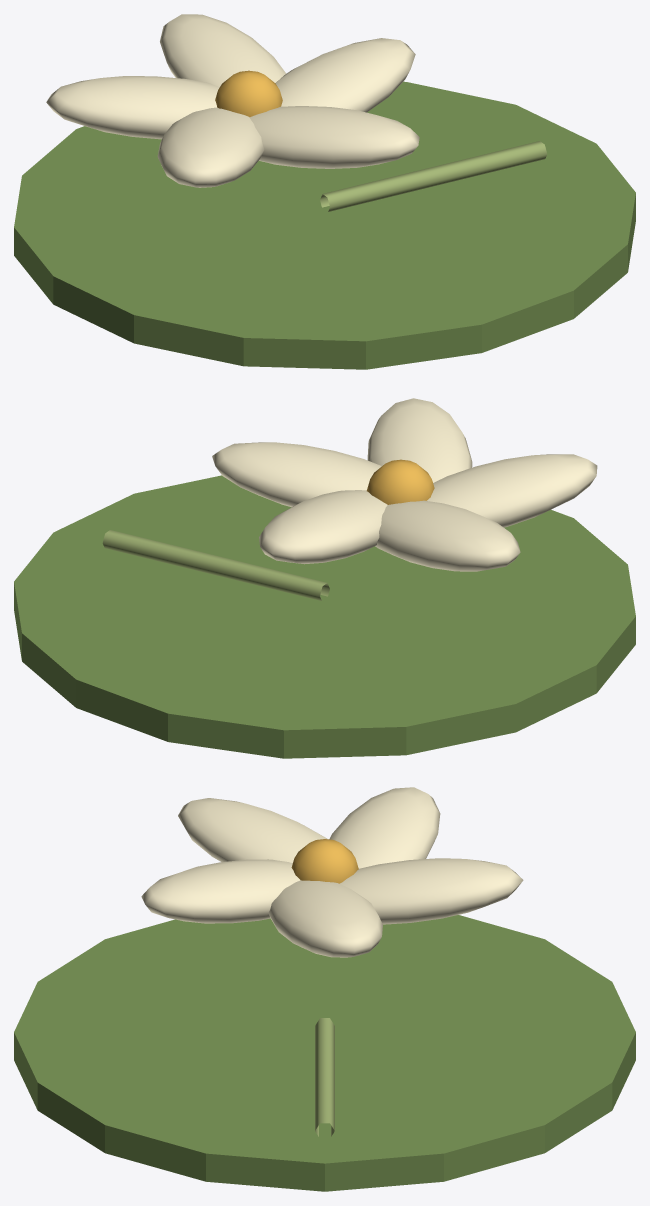
Rendered from lily_pad.glb.
The picture shows the model from 3 angles, top to bottom: view 1: azimuth 30°, elevation 25°; view 2: azimuth 150°, elevation 25°; view 3: azimuth 270°, elevation 25°; orthographic projection.
Parts seen in each view (by area): view 1: WaterLily, Sculpted petal.029, Sculpted petal.027, Sculpted petal.025, Sculpted petal.028, Sculpted petal.026, Pollen center.005; view 2: WaterLily, Sculpted petal.028, Sculpted petal.027, Sculpted petal.025, Sculpted petal.026, Sculpted petal.029, Pollen center.005; view 3: WaterLily, Sculpted petal.026, Sculpted petal.029, Sculpted petal.025, Sculpted petal.028, Sculpted petal.027, Pollen center.005.
Boxes of the visible parts, x1,y1,x2,y2 form: WaterLily: (14, 81, 635, 369); Sculpted petal.029: (249, 106, 419, 168); Sculpted petal.027: (46, 76, 219, 139); Sculpted petal.025: (275, 38, 415, 112); Sculpted petal.028: (157, 107, 264, 187); Sculpted petal.026: (160, 14, 286, 86); Pollen center.005: (215, 70, 282, 117); WaterLily: (14, 475, 635, 758); Sculpted petal.028: (427, 454, 597, 527); Sculpted petal.027: (375, 500, 520, 571); Sculpted petal.025: (212, 442, 381, 507); Sculpted petal.026: (259, 490, 387, 564); Sculpted petal.029: (367, 398, 472, 482); Pollen center.005: (366, 459, 434, 504); WaterLily: (14, 915, 635, 1191); Sculpted petal.026: (339, 858, 523, 924); Sculpted petal.029: (141, 859, 300, 923); Sculpted petal.025: (268, 880, 382, 957); Sculpted petal.028: (178, 798, 327, 862); Sculpted petal.027: (329, 787, 440, 868); Pollen center.005: (291, 839, 358, 883).
Bounding box in the file's own units: 0.5 × 0.1609 × 0.5.
